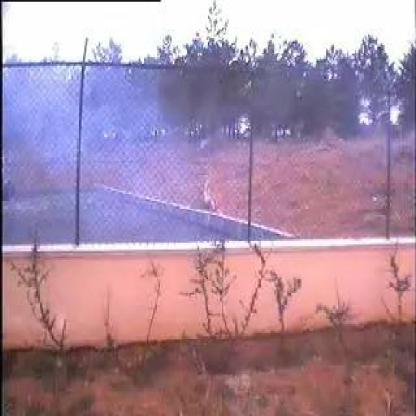-: (17, 64, 190, 246)
